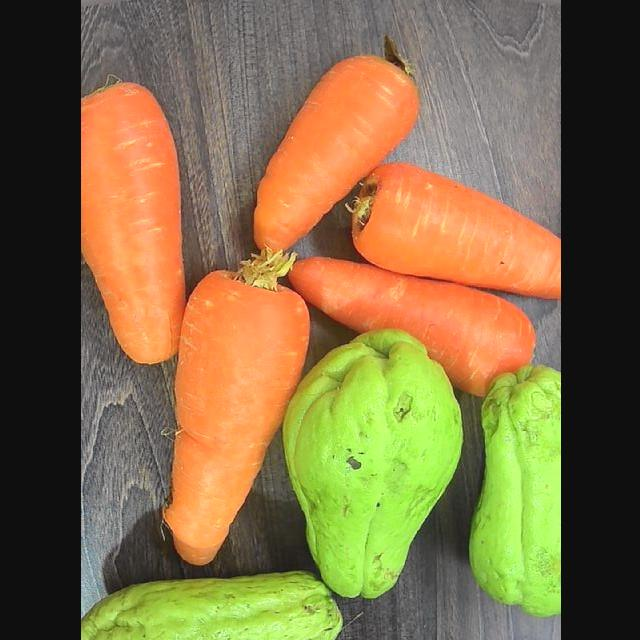chayote: (282, 330, 460, 598), (469, 365, 560, 616), (81, 575, 341, 639)
zanahoria: (164, 248, 308, 564), (254, 38, 418, 250), (289, 257, 534, 395), (81, 83, 185, 363), (350, 162, 560, 298)
